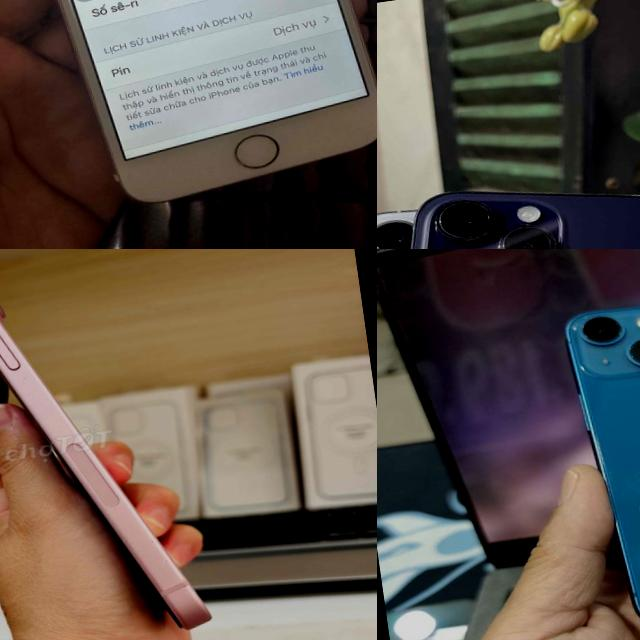gen_12_13: (560, 270, 640, 640)
gen_14: (377, 154, 640, 249)
gen_15: (0, 249, 227, 640)
gen_7_8: (0, 0, 377, 221)
